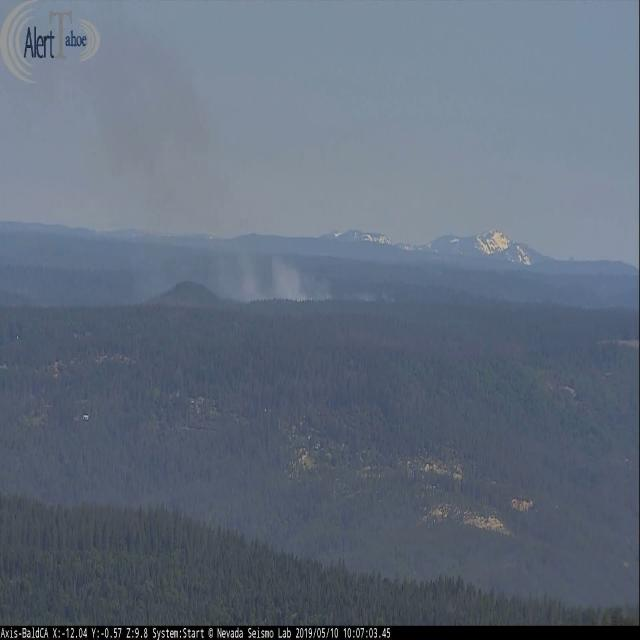smoke: (98, 53, 397, 316)
